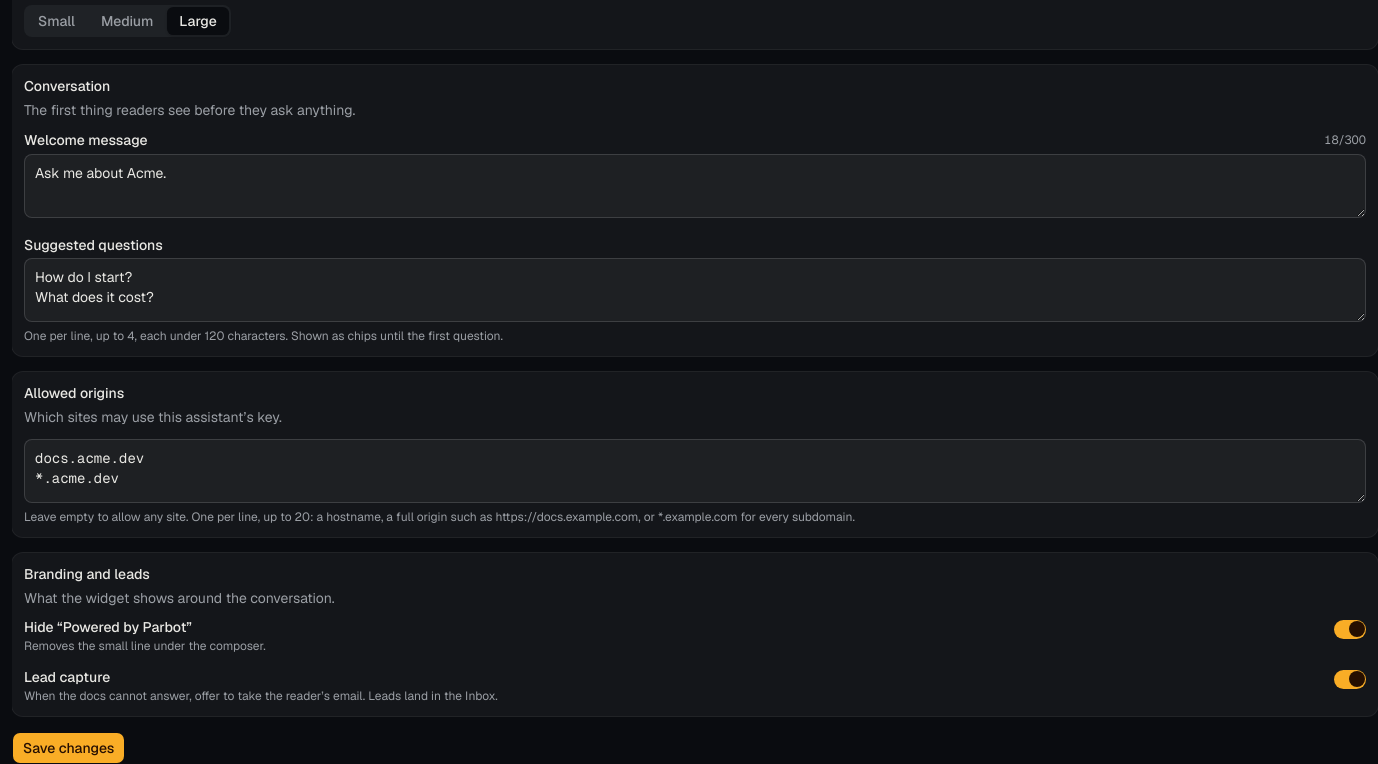
WidgetSettingsForm › keeps what was typed after a failed save and shows the reason
This screenshot has width=1378, height=764.
(page scrolled)
Click the button "Save changes".
click(69, 748)  # box [12, 732, 125, 763]
(page scrolled)
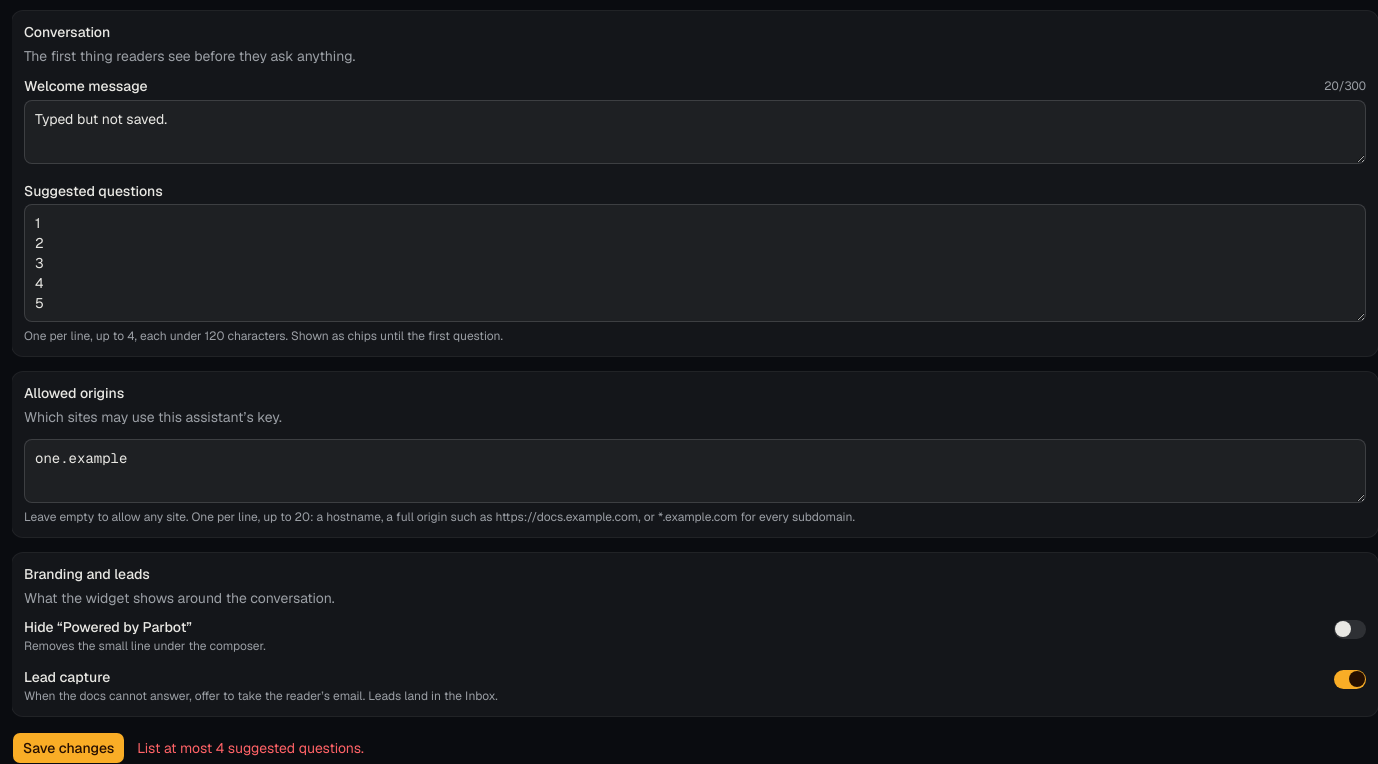
Check: the message reads "List at most 4 suggested questions.", box [137, 739, 364, 757]
Check: the text box named "Allowed origins" holds "one.example", box [24, 439, 1366, 503]
Check: the text box labelled "Welcome message" holds "Typed but not saved.", box [24, 100, 1366, 164]
